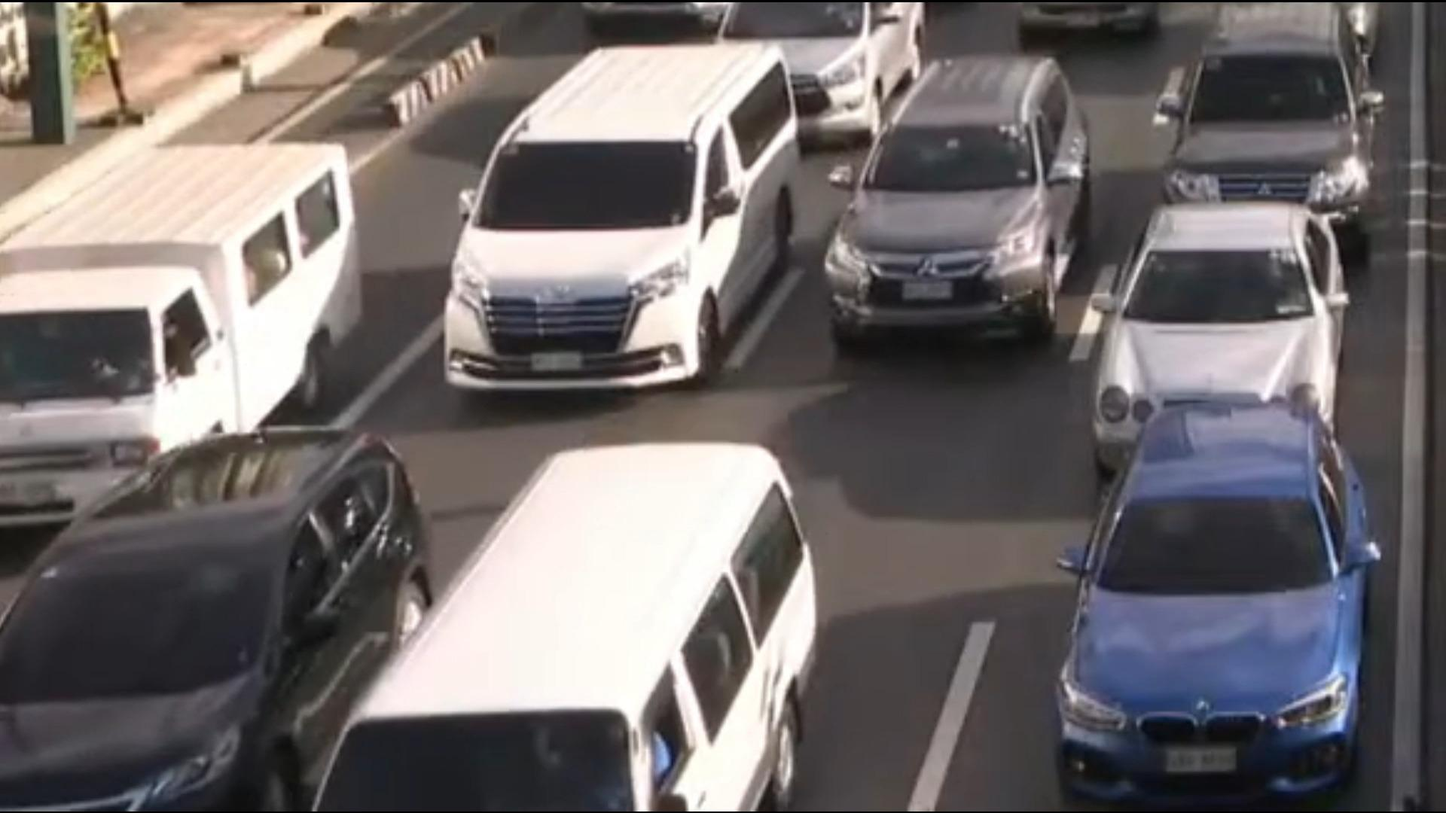Multicab: (0, 121, 407, 548)
SUV: (992, 392, 1412, 803), (0, 424, 430, 813), (798, 47, 1149, 354), (1140, 2, 1394, 258)
Sedan: (1039, 181, 1392, 465)
Van: (293, 426, 868, 813), (423, 32, 827, 431)
